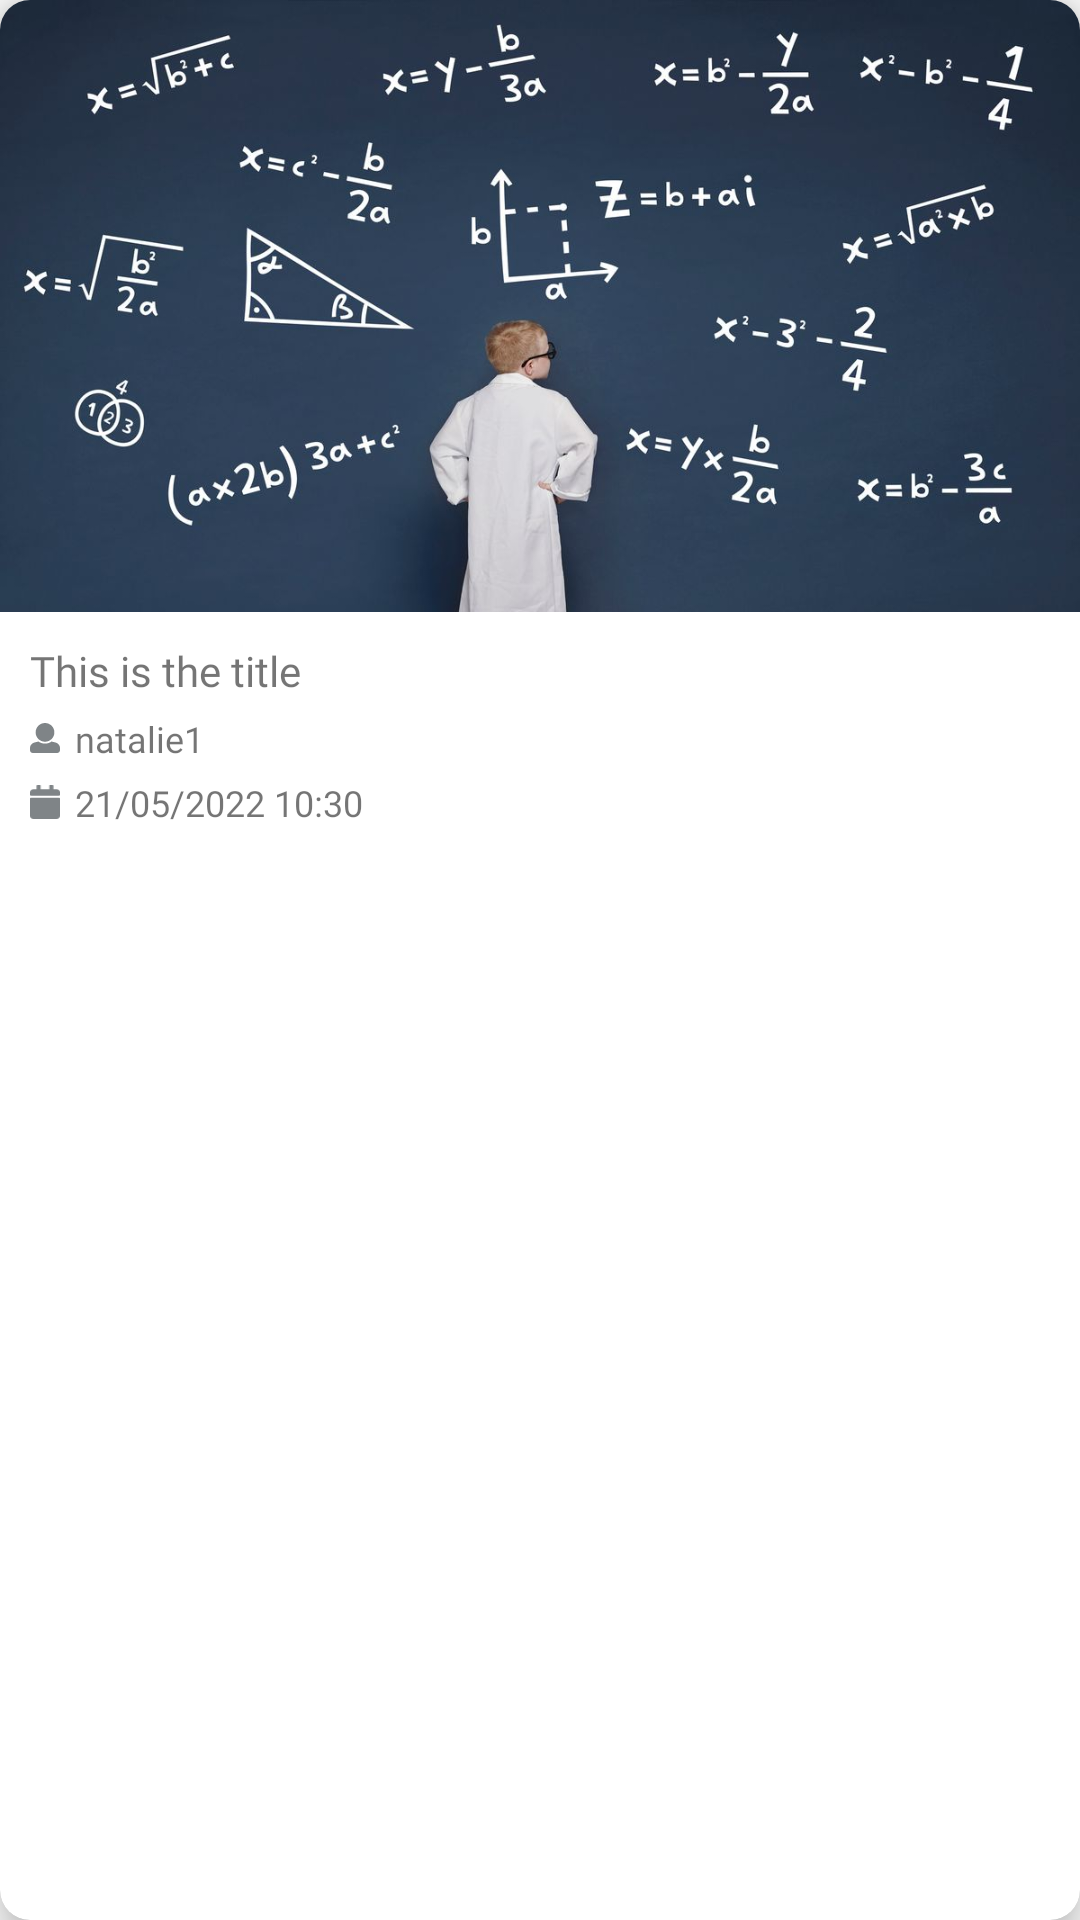

Named icons in this screenshot (1080*1920) and their bounding boxes, {"left": x1, "top": y1, "right": x2, "bottom": y2}:
fas calendar: {"left": 30, "top": 785, "right": 60, "bottom": 819}
fas user: {"left": 30, "top": 723, "right": 60, "bottom": 753}
